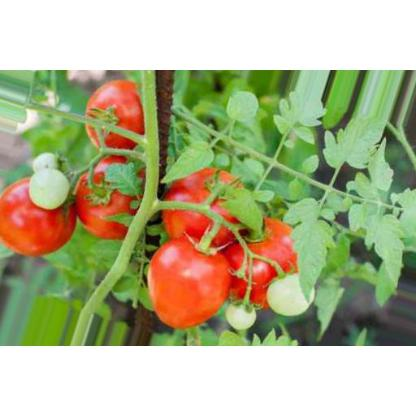tomato: (214, 199, 320, 307), (154, 156, 258, 256), (142, 231, 236, 333), (66, 144, 162, 242), (0, 160, 80, 266), (78, 69, 160, 160)
